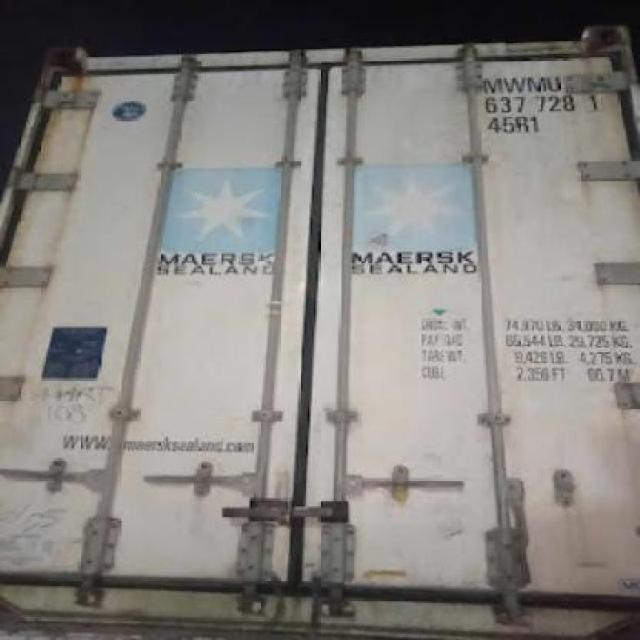ISO: (488, 114, 541, 136)
container_number: (483, 73, 606, 114)
